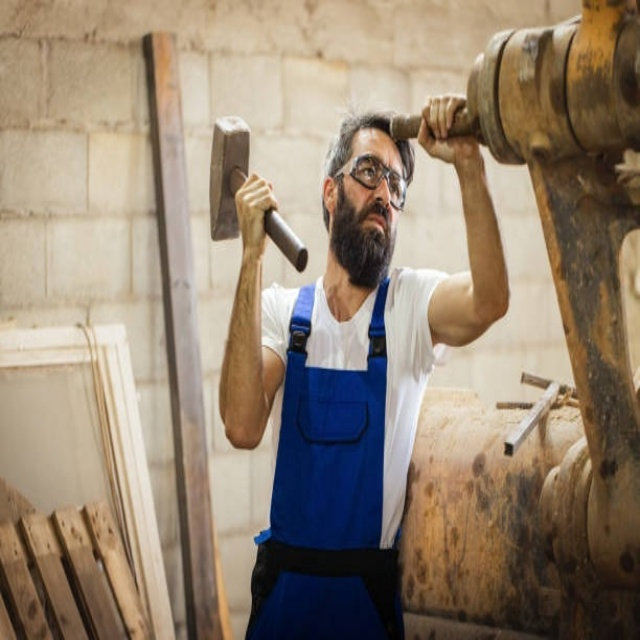Gafas: (334, 154, 408, 211)
Sin_guantes: (417, 94, 480, 168), (234, 171, 278, 252)
Sin_mascara: (360, 210, 392, 257)
